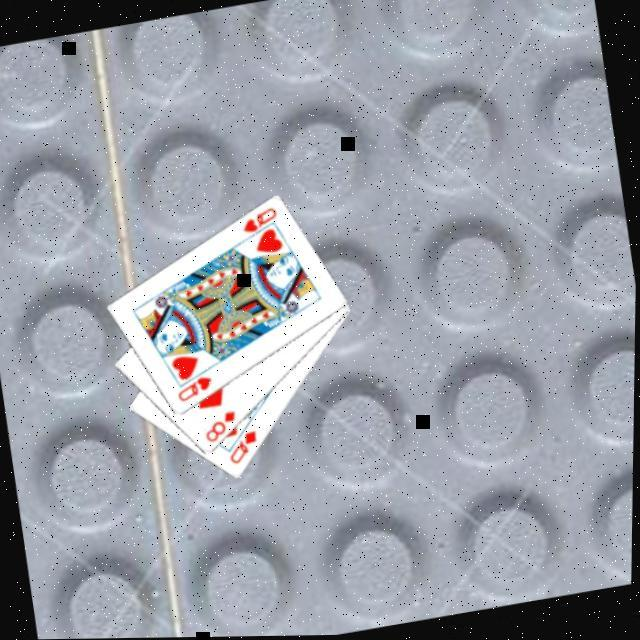8D: (199, 409, 242, 450)
QD: (222, 430, 264, 471)
QH: (236, 206, 283, 248), (172, 374, 218, 410)
